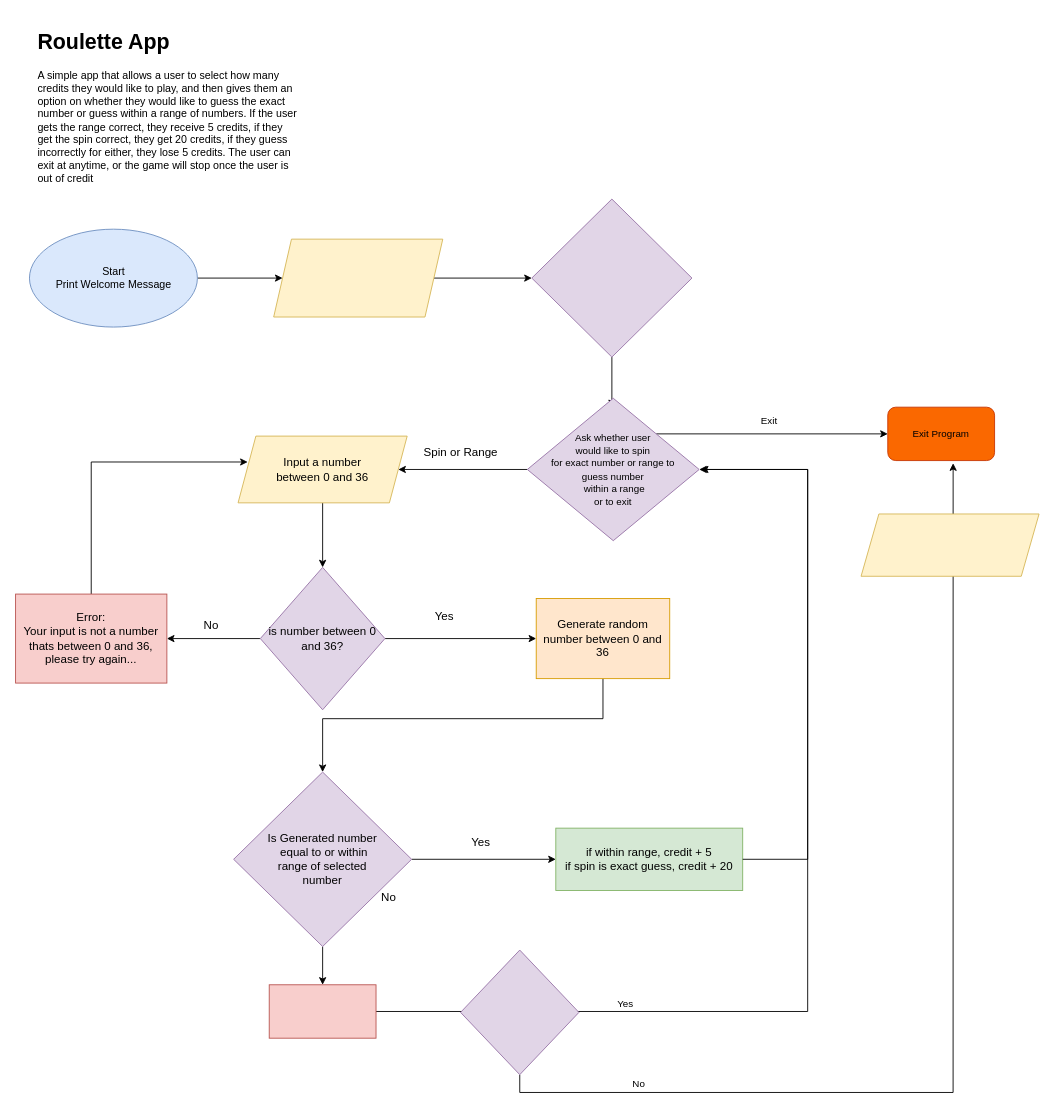
Some shapes in this 1055 by 1115 pixel diagram are drawn without their labels. Each missing label, with the centre of its shape:
"Ask user for their name" belongs at point (358, 277).
"Ask user how many credits they would like to begin with 20,50 or 100" belongs at point (611, 277).
"Credit - 5" belongs at point (322, 1011).
"Is credit >= 5" belongs at point (519, 1012).
"Output total wins and losses and total credits spent with a message" belongs at point (949, 544).
